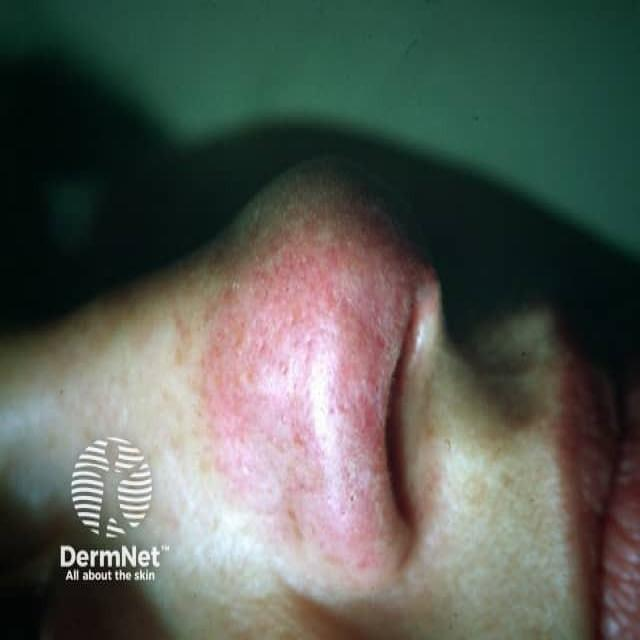lupus-detected: (143, 149, 487, 562)
